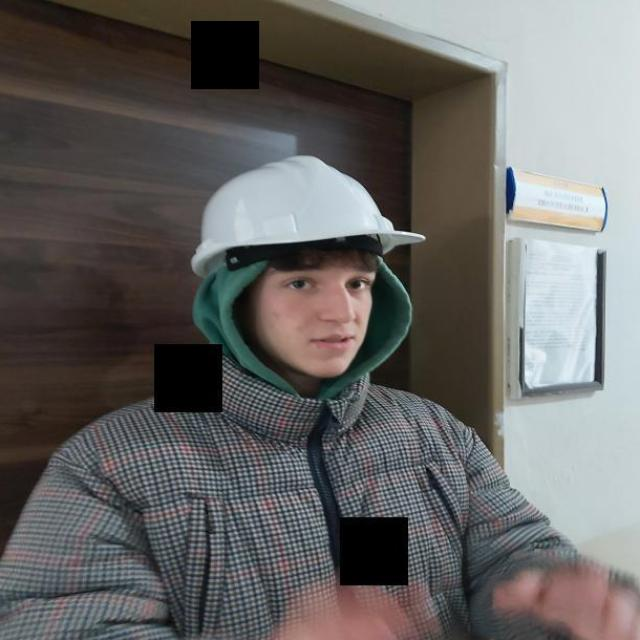helmet: (191, 153, 427, 279)
